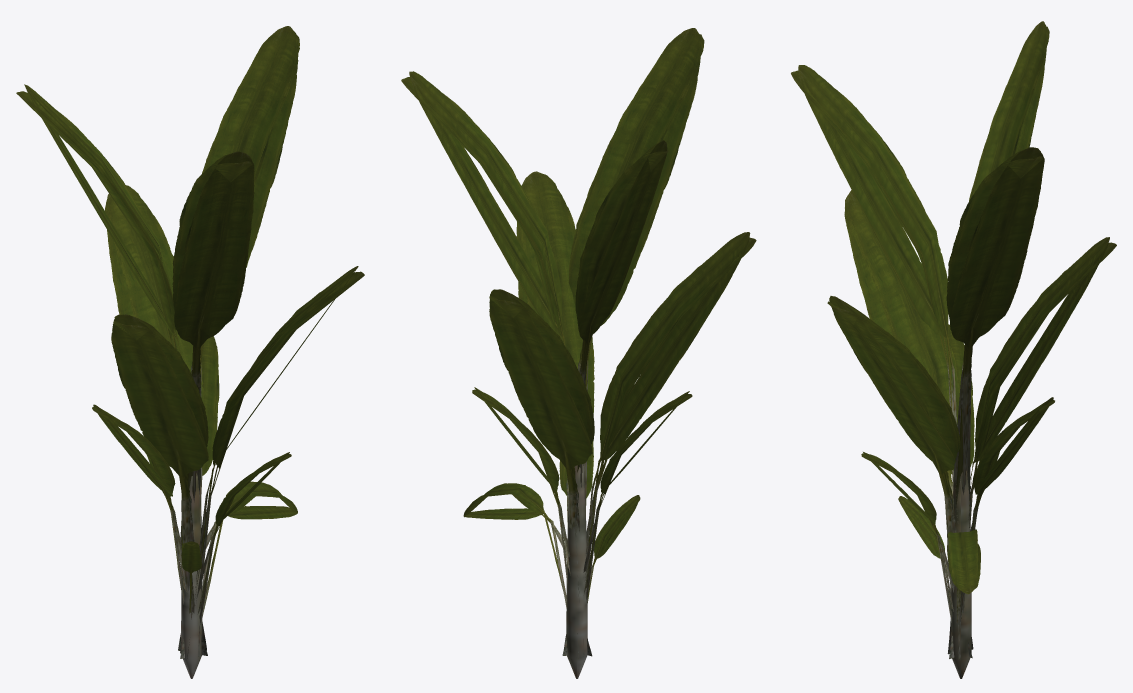
Rendered from PalmPlant.FBX.
3 views of the same model, side by side, from view 1: azimuth 30°, elevation 25°; view 2: azimuth 150°, elevation 25°; view 3: azimuth 270°, elevation 25° (orthographic).
Visible parts, largest first — view 1: PalmPlant_LOD5_backface, PalmPlant_LOD4_backface, PalmPlant_LOD3_backface, PalmPlant_LOD1_backface, PalmPlant_LOD0, PalmPalntTrunck_LOD0, PalmPlant_LOD2_backface, PalmPlant_LOD0_backface; view 2: PalmPlant_LOD5_backface, PalmPlant_LOD4_backface, PalmPlant_LOD3_backface, PalmPlant_LOD1_backface, PalmPalntTrunck_LOD0, PalmPlant_LOD0, PalmPlant_LOD2_backface, PalmPlant_LOD0_backface; view 3: PalmPlant_LOD5_backface, PalmPlant_LOD4_backface, PalmPlant_LOD3_backface, PalmPlant_LOD1_backface, PalmPlant_LOD0, PalmPalntTrunck_LOD0, PalmPlant_LOD2_backface, PalmPlant_LOD0_backface.
Part boxes in pixels (x1=…): PalmPlant_LOD5_backface: x1=25, y1=26, x2=355, y2=658; PalmPlant_LOD4_backface: x1=24, y1=26, x2=358, y2=613; PalmPlant_LOD3_backface: x1=16, y1=38, x2=363, y2=624; PalmPlant_LOD1_backface: x1=17, y1=35, x2=364, y2=585; PalmPlant_LOD0: x1=19, y1=39, x2=344, y2=588; PalmPalntTrunck_LOD0: x1=181, y1=473, x2=202, y2=678; PalmPlant_LOD2_backface: x1=18, y1=37, x2=362, y2=588; PalmPlant_LOD0_backface: x1=50, y1=70, x2=339, y2=566; PalmPlant_LOD5_backface: x1=409, y1=28, x2=749, y2=658; PalmPlant_LOD4_backface: x1=409, y1=28, x2=749, y2=604; PalmPlant_LOD3_backface: x1=403, y1=40, x2=755, y2=608; PalmPlant_LOD1_backface: x1=401, y1=34, x2=756, y2=601; PalmPalntTrunck_LOD0: x1=566, y1=464, x2=587, y2=678; PalmPlant_LOD0: x1=402, y1=40, x2=755, y2=602; PalmPlant_LOD2_backface: x1=404, y1=39, x2=752, y2=574; PalmPlant_LOD0_backface: x1=406, y1=50, x2=746, y2=551; PalmPlant_LOD5_backface: x1=798, y1=21, x2=1109, y2=659; PalmPlant_LOD4_backface: x1=798, y1=21, x2=1109, y2=613; PalmPlant_LOD3_backface: x1=791, y1=29, x2=1115, y2=627; PalmPlant_LOD1_backface: x1=791, y1=26, x2=1116, y2=594; PalmPlant_LOD0: x1=791, y1=31, x2=1116, y2=593; PalmPalntTrunck_LOD0: x1=951, y1=423, x2=971, y2=678; PalmPlant_LOD2_backface: x1=793, y1=31, x2=1114, y2=592; PalmPlant_LOD0_backface: x1=797, y1=81, x2=1111, y2=563.
Size of what is drawn, in the model's own units: 100 by 200 by 101.
1 material, 1 textured.
